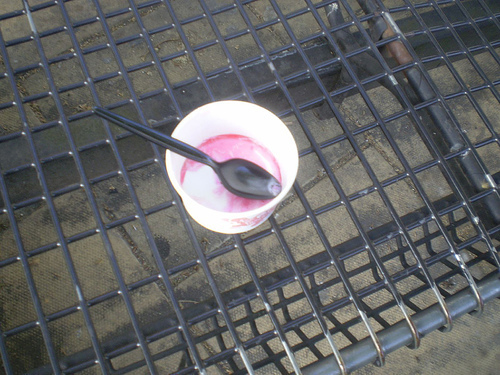litter: (92, 98, 300, 235)
